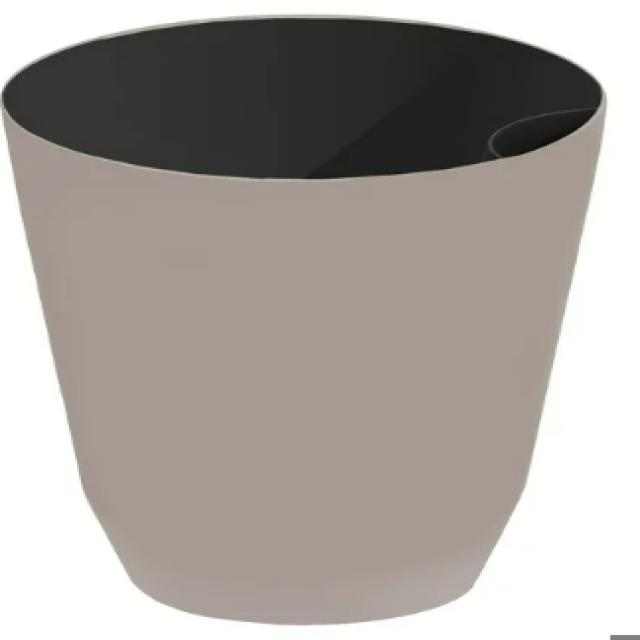Plant Pot: (0, 0, 602, 611)
